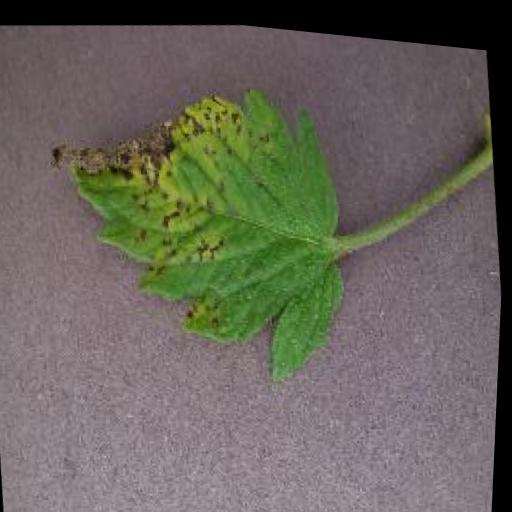Septoria: (33, 58, 371, 404)
